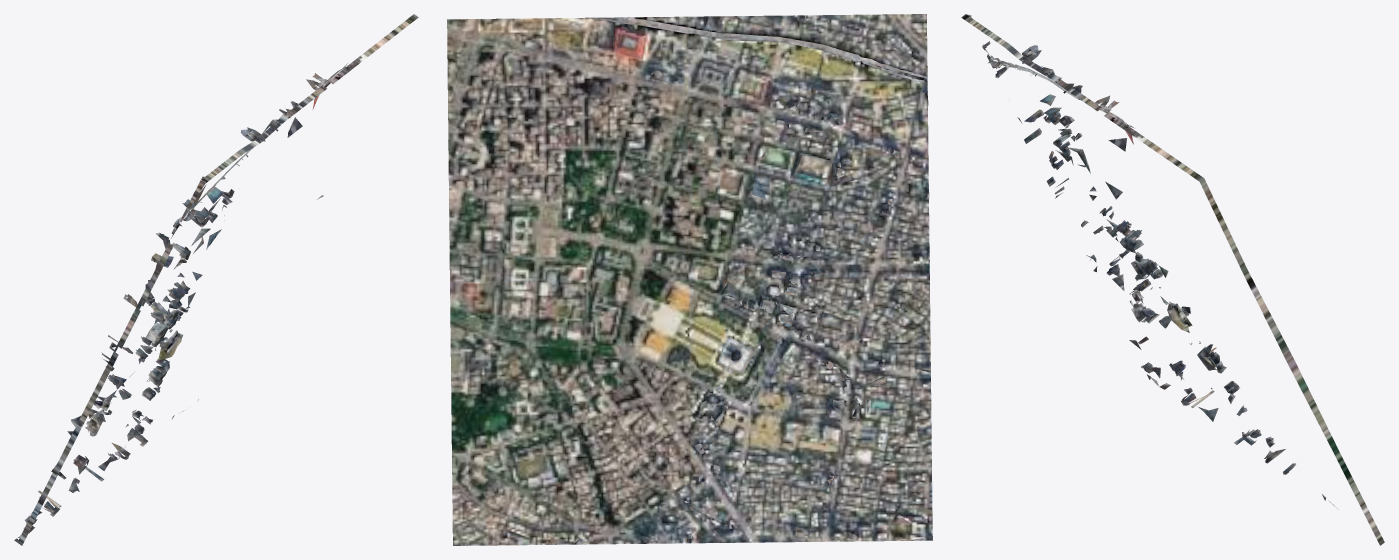
3 views of the same model, side by side, from view 1: azimuth 30°, elevation 25°; view 2: azimuth 150°, elevation 25°; view 3: azimuth 270°, elevation 25° (orthographic). The views are drawn at different scales.
Bounding box in the file's own units: 2454 × 2257 × 2062.
Materials: 1 (1 with a texture image).
